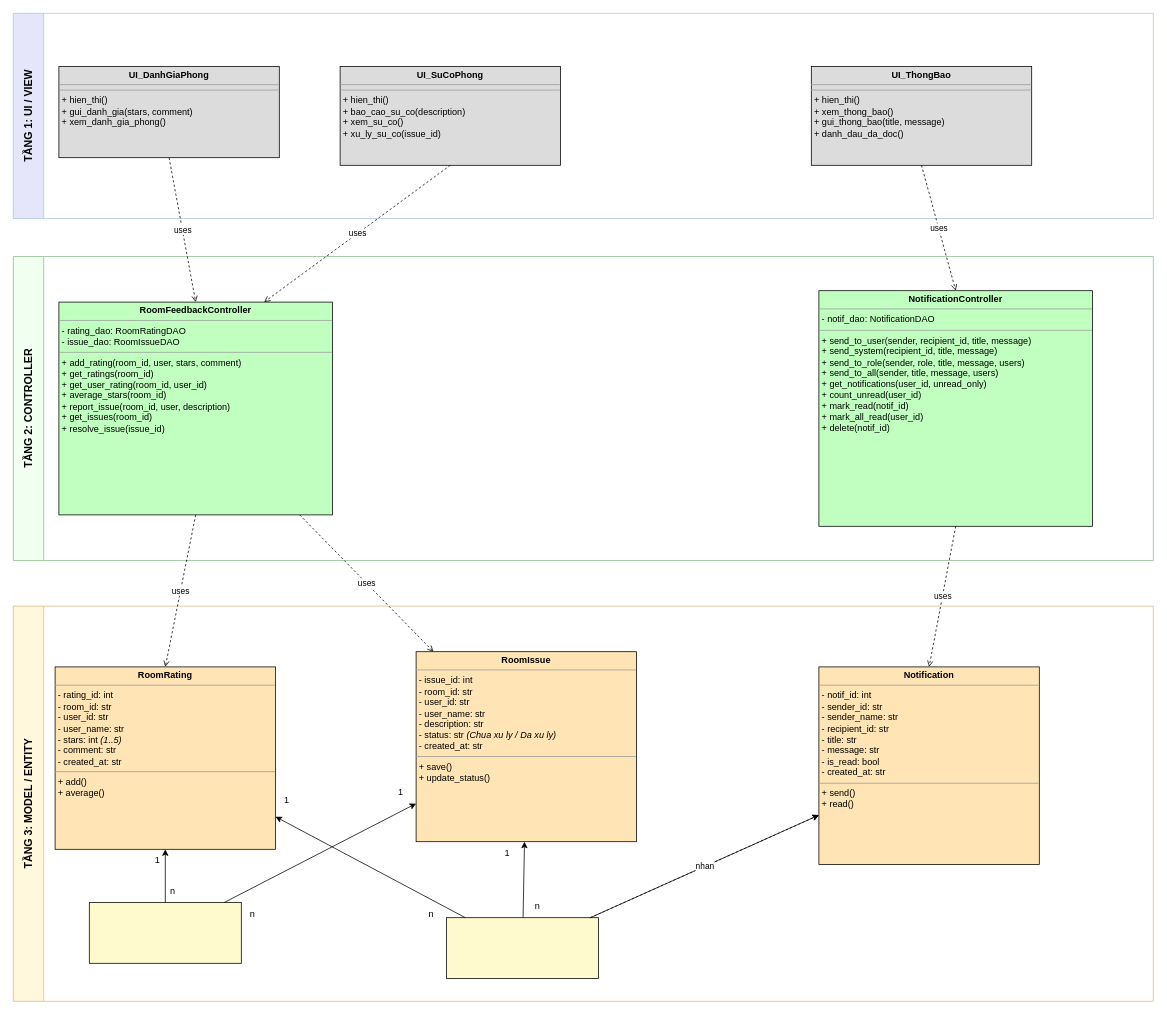
The diagram is 1167 pixels wide and 1015 high, and some of its shapes have lost their labels. The centre of each missing label's shape, as x and y in pixels:
"Room - room_id: str - name: str" goes at (x=165, y=932).
"User - user_id: str - username: str" goes at (x=522, y=947).
